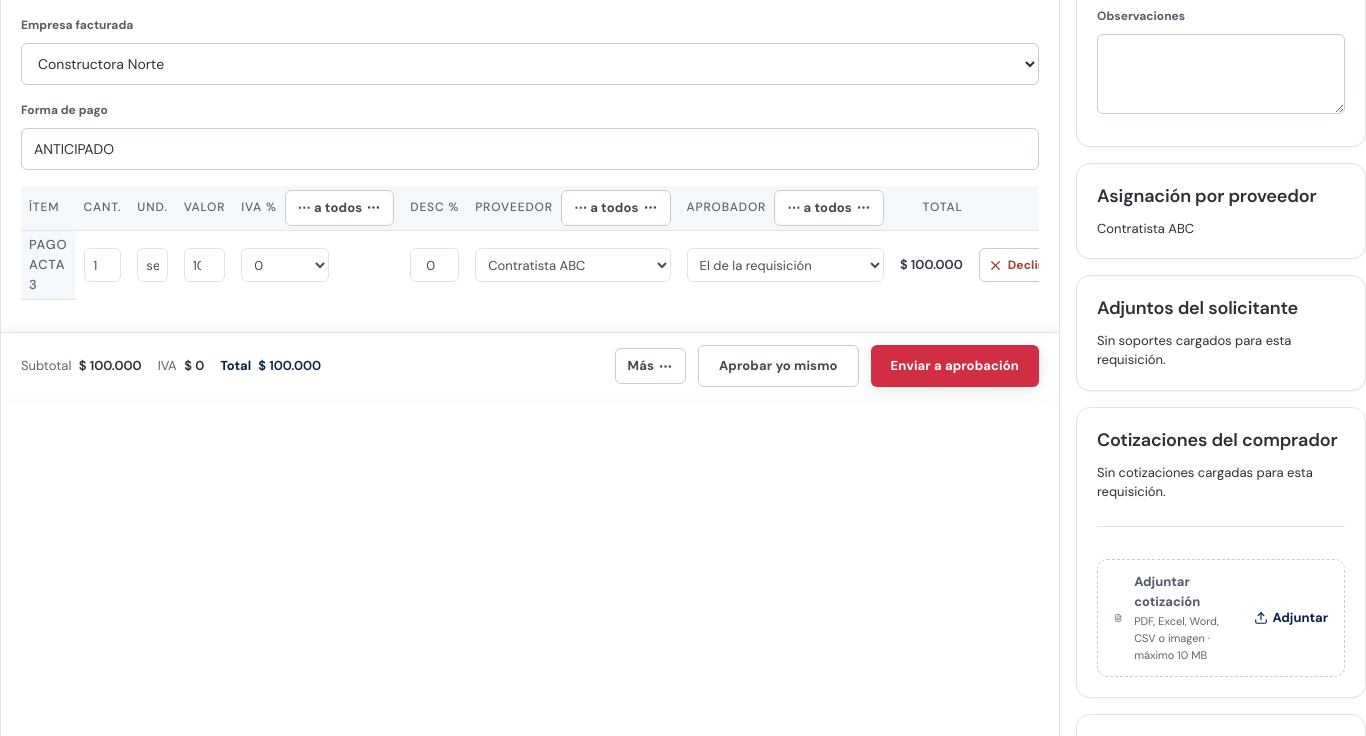
Test: Aprobar yo mismo (RF-308) › cancelar la confirmación no manda nada
This screenshot has width=1366, height=736.
(page scrolled)
Click the button "Aprobar yo mismo" at (778,366), box [698,345,859,387]
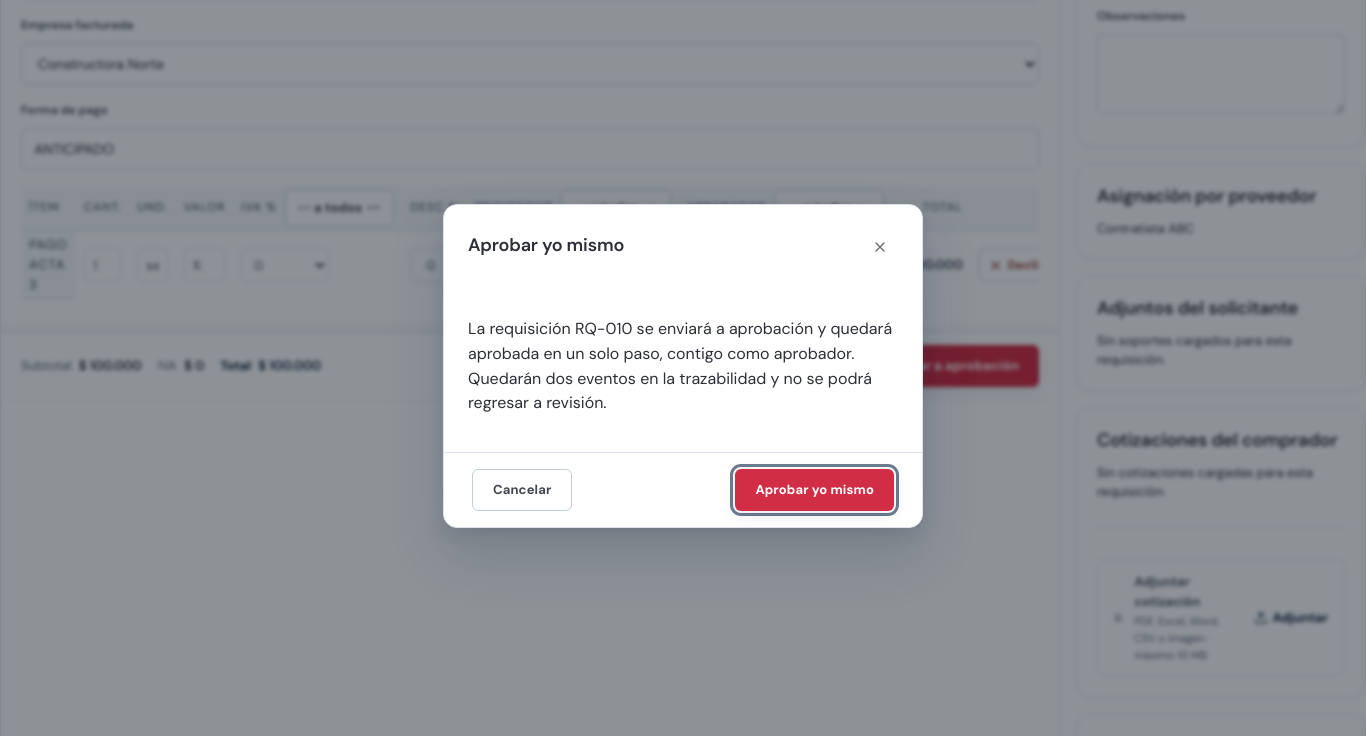
Now the dialog "Aprobar yo mismo" is shown, box [443,204,923,528]
Click the button with test id "confirm-dialog-cancel" at (522,490), box [472,469,572,511]
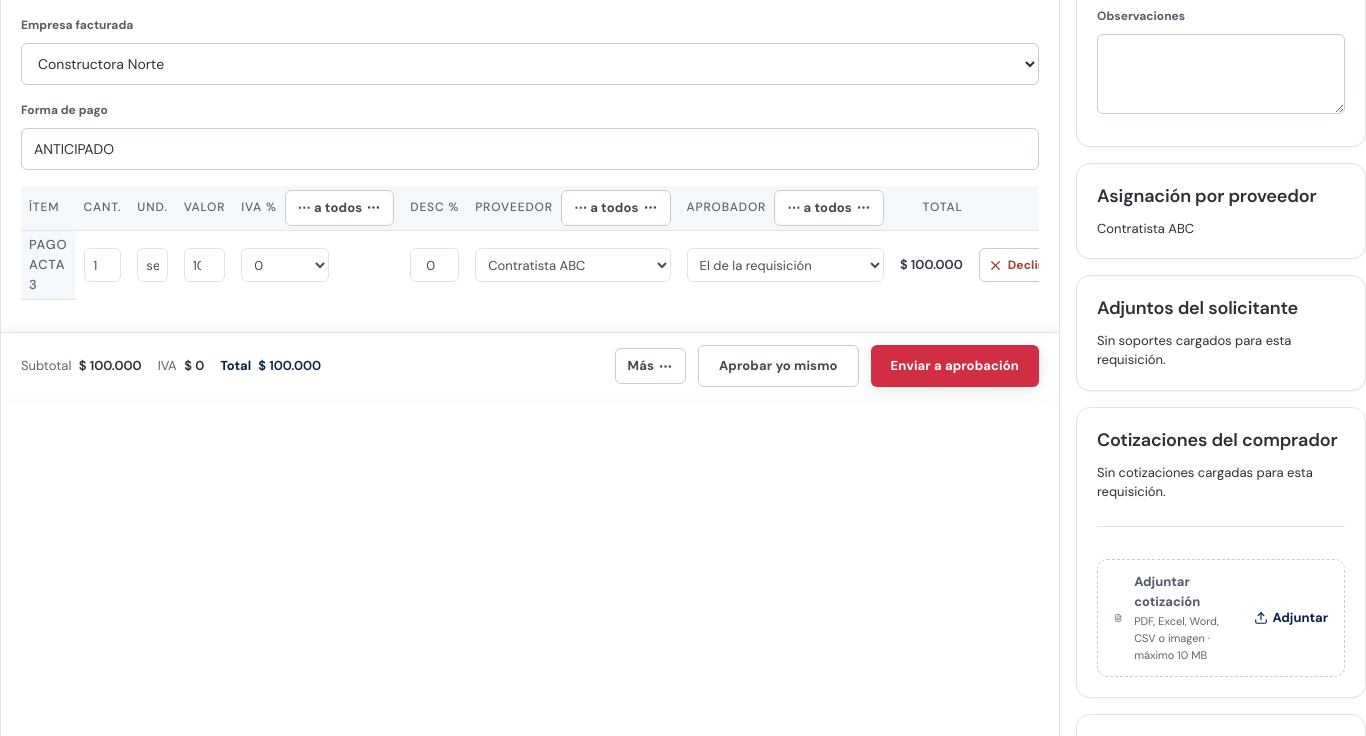
Now the dialog is gone
